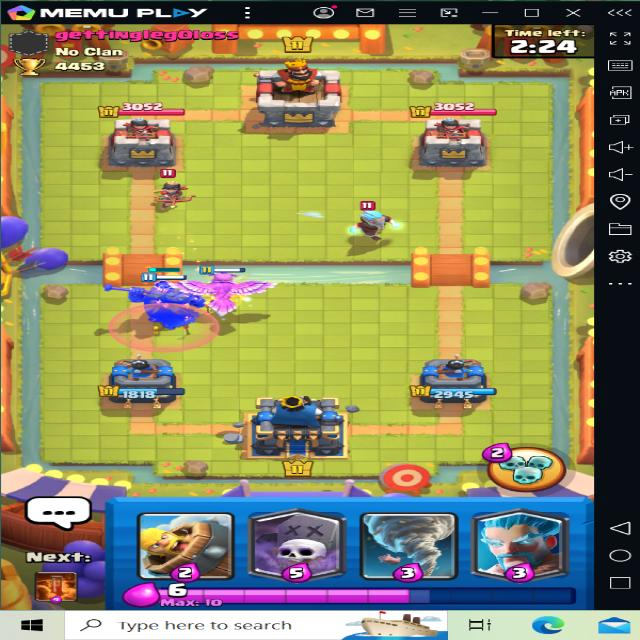Icewizard: (342, 198, 406, 246)
Princess: (145, 166, 198, 212)
